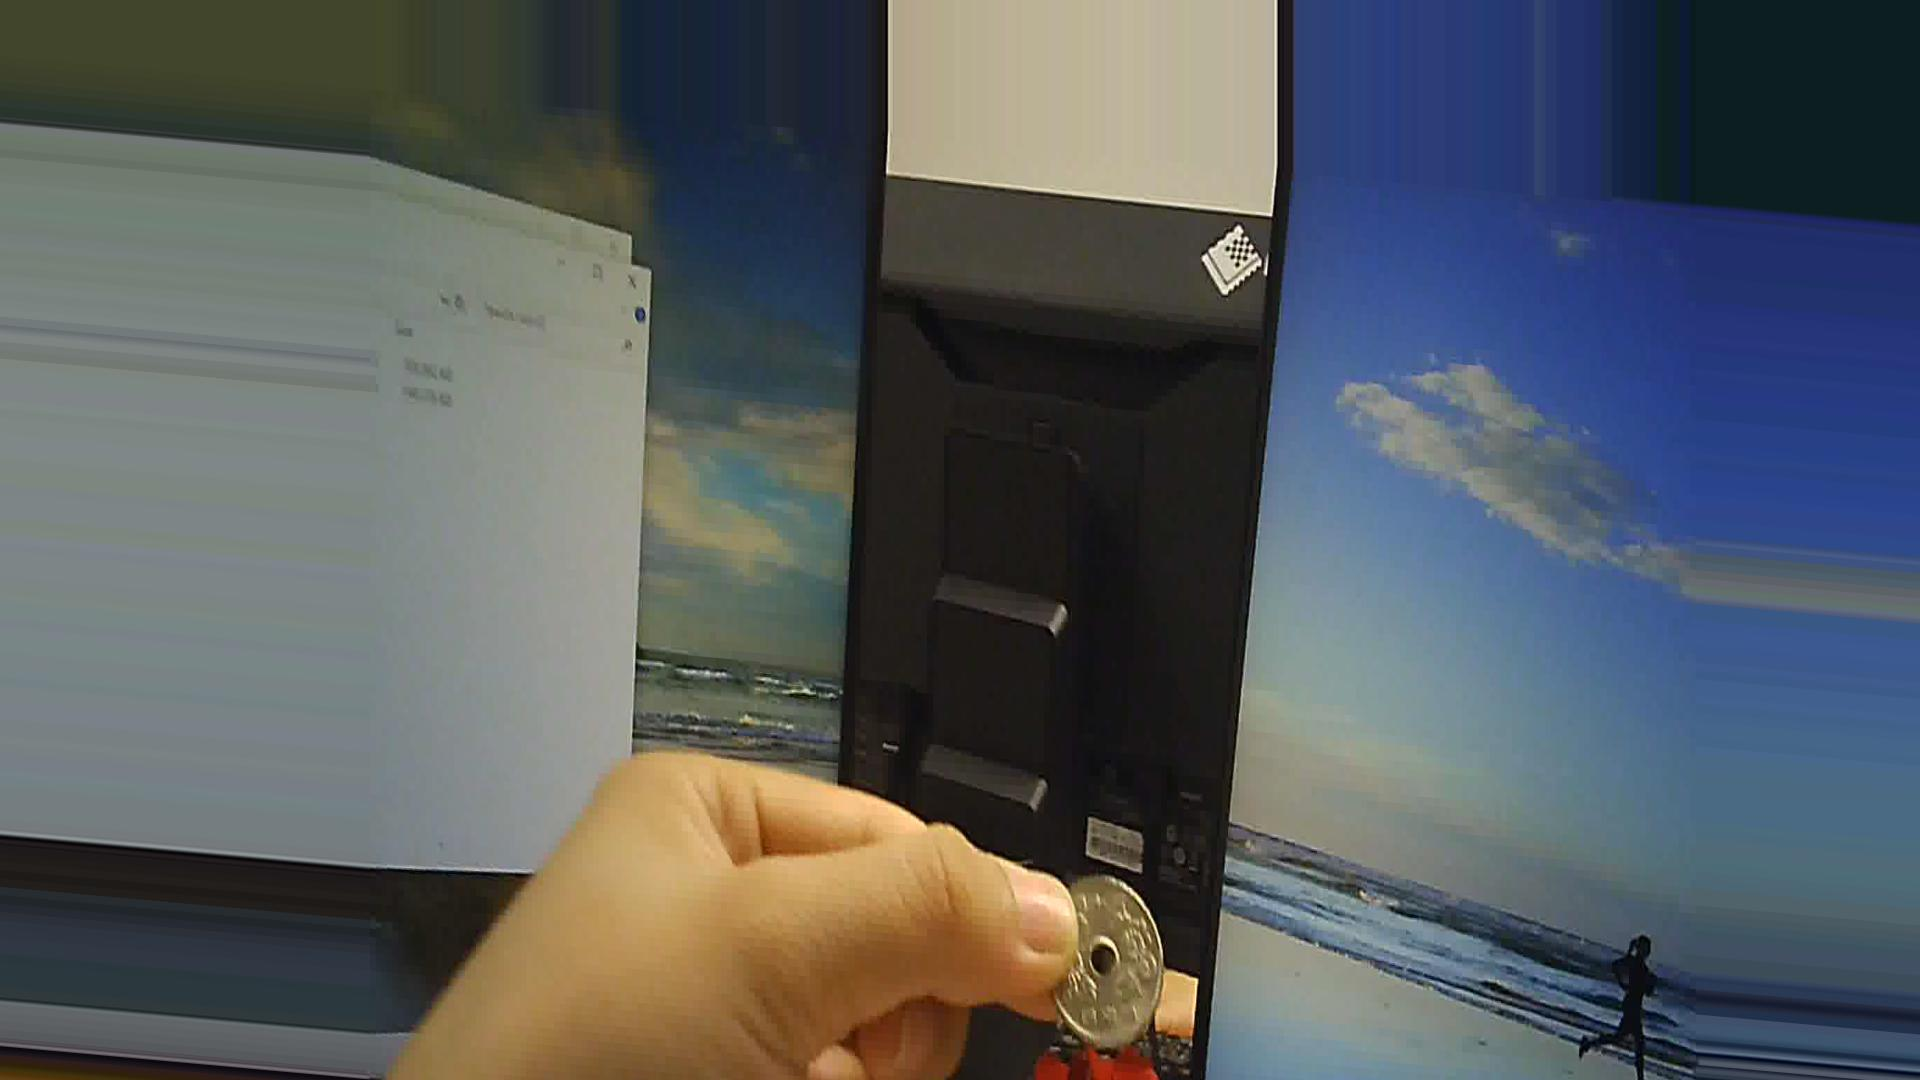50 Yen: (1036, 862, 1168, 1055)
